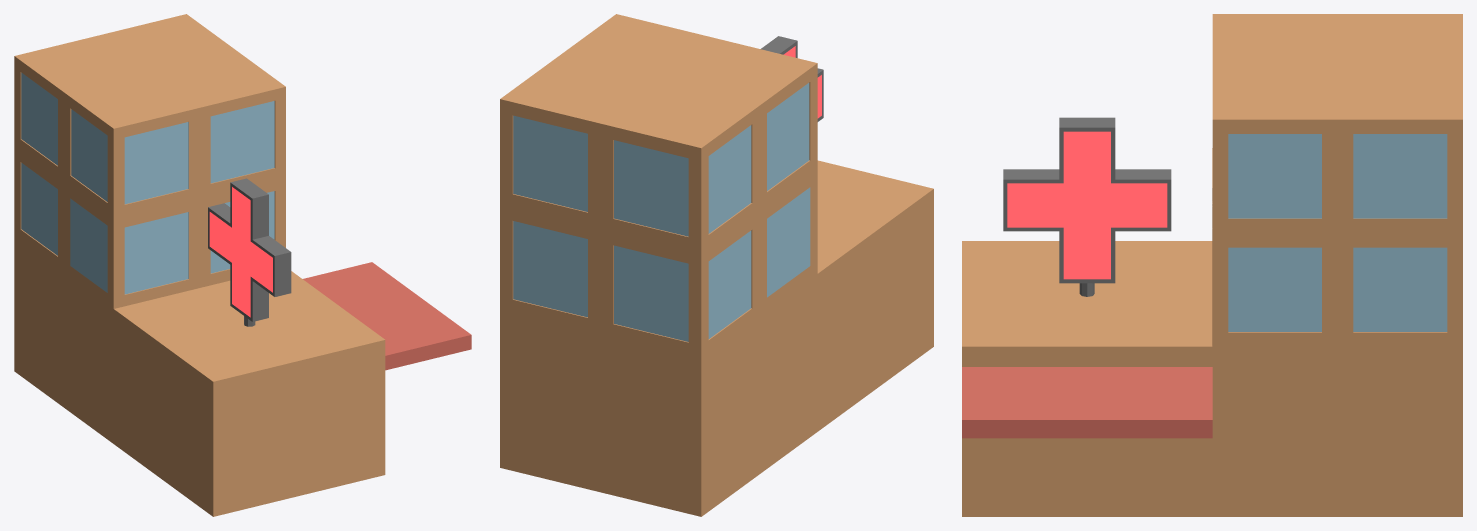
Rendered from Hospital.fbx.
3 renders of one model, left to right at view 1: azimuth 30°, elevation 25°; view 2: azimuth 150°, elevation 25°; view 3: azimuth 270°, elevation 25°, orthographic. The views are drawn at different scales.
Visible parts, largest first — view 1: Hospital, Cross; view 2: Hospital, Cross; view 3: Hospital, Cross.
Boxes of the visible parts, box(x1,y1,x2,y2) form: Hospital: box(14, 14, 471, 516); Cross: box(208, 178, 291, 321); Hospital: box(500, 14, 933, 516); Cross: box(760, 36, 823, 121); Hospital: box(962, 14, 1462, 516); Cross: box(1003, 117, 1171, 283).
Size of the model in its own units: 600 by 700 by 800.
